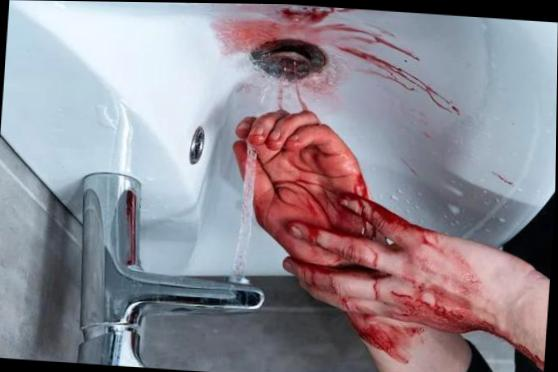Fire: (287, 197, 499, 361), (212, 2, 462, 113), (488, 331, 546, 370), (354, 176, 372, 196)
